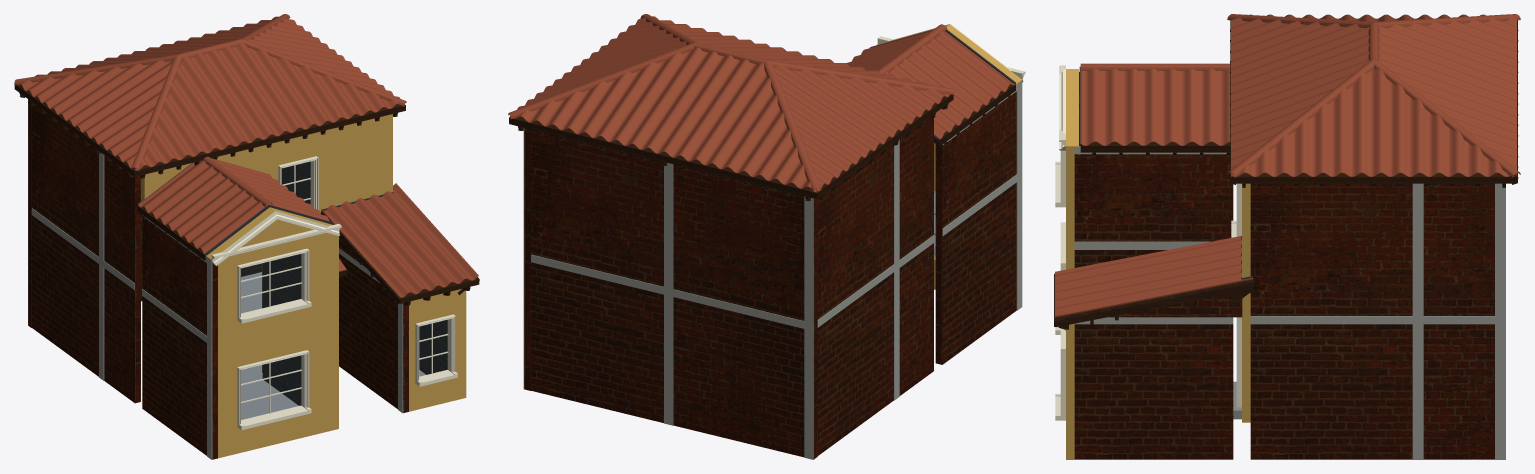
The model's file is building.glb.
The picture shows the model from 3 angles, left to right: view 1: azimuth 30°, elevation 25°; view 2: azimuth 150°, elevation 25°; view 3: azimuth 270°, elevation 25°; orthographic projection. The views are drawn at different scales.
Parts seen in each view (by area): view 1: house:0/edge3/z0/house:0/edge3/z0/wall_0_0, wing:0/edge0/z0/wing:0/edge0/z0/wall_0_0, wing:0/edge3/z0/wing:0/edge3/z0/wall_0_0, house:0/edge0/z0/house:0/edge0/z0/wall_0_0, porch:0/edge3/z0/porch:0/edge3/z0/wall_0_0, porch:0/edge0/z0/porch:0/edge0/z0/wall_0_0, wing:0/edge0/z0/opening_u0.80_v0.80/window_glass#0001, wing:0/edge1/z0/wing:0/edge1/z0/wall_0_0, wing:0/edge0/z0/opening_u0.80_v4.00/window_glass#0001, roof_assembly/principal/roof_fascia#0002, crown/fronton/crown_body#0001, porch:0/edge0/z0/opening_u0.40_v0.80/window_glass#0001 (+18 smaller); view 2: house:0/edge2/z0/house:0/edge2/z0/wall_0_0, house:0/edge3/z0/house:0/edge3/z0/wall_0_0, wing:0/edge3/z0/wing:0/edge3/z0/wall_0_0, house:0/edge2/z0/house:0/edge2/z0/beam_0_0, roof_assembly/principal/roof_fascia#0004, house:0/edge1/z0/house:0/edge1/z0/wall_0_0, house:0/edge2/z0/house:0/edge2/z0/column_1_0, house:0/edge2/z0/house:0/edge2/z0/column_2_0, house:0/edge2/z0/house:0/edge2/z0/column_2_1, house:0/edge2/z0/house:0/edge2/z0/column_1_1, roof_assembly/principal/roof_fascia#0001, house:0/edge3/z0/house:0/edge3/z0/beam_0_0 (+7 smaller); view 3: house:0/edge1/z0/house:0/edge1/z0/wall_0_0, porch:0/edge1/z0/porch:0/edge1/z0/wall_0_0, wing:0/edge1/z0/wing:0/edge1/z0/wall_0_0, house:0/edge1/z0/house:0/edge1/z0/beam_0_0, roof_assembly/principal/roof_fascia#0003, house:0/edge0/z0/house:0/edge0/z0/wall_0_0, roof_assembly/lateral/roof_gable_closure#0004, house:0/edge1/z0/house:0/edge1/z0/column_2_0, house:0/edge1/z0/house:0/edge1/z0/column_2_1, roof_assembly/lateral/roof_fascia#0003, house:0/edge1/z0/house:0/edge1/z0/column_1_0, house:0/edge1/z0/house:0/edge1/z0/column_1_1 (+11 smaller).
Boxes of the visible parts, x1=… form: house:0/edge3/z0/house:0/edge3/z0/wall_0_0: x1=32, y1=105, x2=140, y2=403; wing:0/edge0/z0/wing:0/edge0/z0/wall_0_0: x1=218, y1=232, x2=338, y2=458; wing:0/edge3/z0/wing:0/edge3/z0/wall_0_0: x1=142, y1=216, x2=217, y2=459; house:0/edge0/z0/house:0/edge0/z0/wall_0_0: x1=141, y1=114, x2=392, y2=372; porch:0/edge3/z0/porch:0/edge3/z0/wall_0_0: x1=339, y1=254, x2=408, y2=413; porch:0/edge0/z0/porch:0/edge0/z0/wall_0_0: x1=409, y1=289, x2=466, y2=411; wing:0/edge0/z0/opening_u0.80_v0.80/window_glass#0001: x1=241, y1=355, x2=301, y2=419; wing:0/edge1/z0/wing:0/edge1/z0/wall_0_0: x1=263, y1=254, x2=300, y2=405; wing:0/edge0/z0/opening_u0.80_v4.00/window_glass#0001: x1=241, y1=254, x2=301, y2=313; roof_assembly/principal/roof_fascia#0002: x1=134, y1=105, x2=405, y2=176; crown/fronton/crown_body#0001: x1=206, y1=207, x2=332, y2=259; porch:0/edge0/z0/opening_u0.40_v0.80/window_glass#0001: x1=419, y1=320, x2=447, y2=376; house:0/edge2/z0/house:0/edge2/z0/wall_0_0: x1=531, y1=129, x2=817, y2=459; house:0/edge3/z0/house:0/edge3/z0/wall_0_0: x1=817, y1=117, x2=933, y2=455; wing:0/edge3/z0/wing:0/edge3/z0/wall_0_0: x1=935, y1=92, x2=1016, y2=364; house:0/edge2/z0/house:0/edge2/z0/beam_0_0: x1=531, y1=254, x2=813, y2=330; roof_assembly/principal/roof_fascia#0004: x1=509, y1=118, x2=817, y2=198; house:0/edge1/z0/house:0/edge1/z0/wall_0_0: x1=524, y1=128, x2=531, y2=390; house:0/edge2/z0/house:0/edge2/z0/column_1_0: x1=804, y1=329, x2=813, y2=459; house:0/edge2/z0/house:0/edge2/z0/column_2_0: x1=664, y1=295, x2=673, y2=425; house:0/edge2/z0/house:0/edge2/z0/column_2_1: x1=664, y1=163, x2=673, y2=289; house:0/edge2/z0/house:0/edge2/z0/column_1_1: x1=804, y1=196, x2=813, y2=323; roof_assembly/principal/roof_fascia#0001: x1=817, y1=94, x2=953, y2=198; house:0/edge3/z0/house:0/edge3/z0/beam_0_0: x1=817, y1=235, x2=934, y2=327; house:0/edge1/z0/house:0/edge1/z0/wall_0_0: x1=1250, y1=183, x2=1494, y2=459; porch:0/edge1/z0/porch:0/edge1/z0/wall_0_0: x1=1074, y1=324, x2=1233, y2=459; wing:0/edge1/z0/wing:0/edge1/z0/wall_0_0: x1=1074, y1=142, x2=1233, y2=267; house:0/edge1/z0/house:0/edge1/z0/beam_0_0: x1=1250, y1=316, x2=1505, y2=324; roof_assembly/principal/roof_fascia#0003: x1=1231, y1=176, x2=1516, y2=183; house:0/edge0/z0/house:0/edge0/z0/wall_0_0: x1=1242, y1=183, x2=1250, y2=422; roof_assembly/lateral/roof_gable_closure#0004: x1=1108, y1=293, x2=1241, y2=317; house:0/edge1/z0/house:0/edge1/z0/column_2_0: x1=1412, y1=324, x2=1423, y2=459; house:0/edge1/z0/house:0/edge1/z0/column_2_1: x1=1412, y1=183, x2=1423, y2=316; roof_assembly/lateral/roof_fascia#0003: x1=1054, y1=282, x2=1253, y2=326; house:0/edge1/z0/house:0/edge1/z0/column_1_0: x1=1495, y1=324, x2=1505, y2=459; house:0/edge1/z0/house:0/edge1/z0/column_1_1: x1=1495, y1=183, x2=1505, y2=316.
Size of the model in its own units: 8.67 by 8.68 by 10.6.
Materials: 10 (2 with a texture image).
